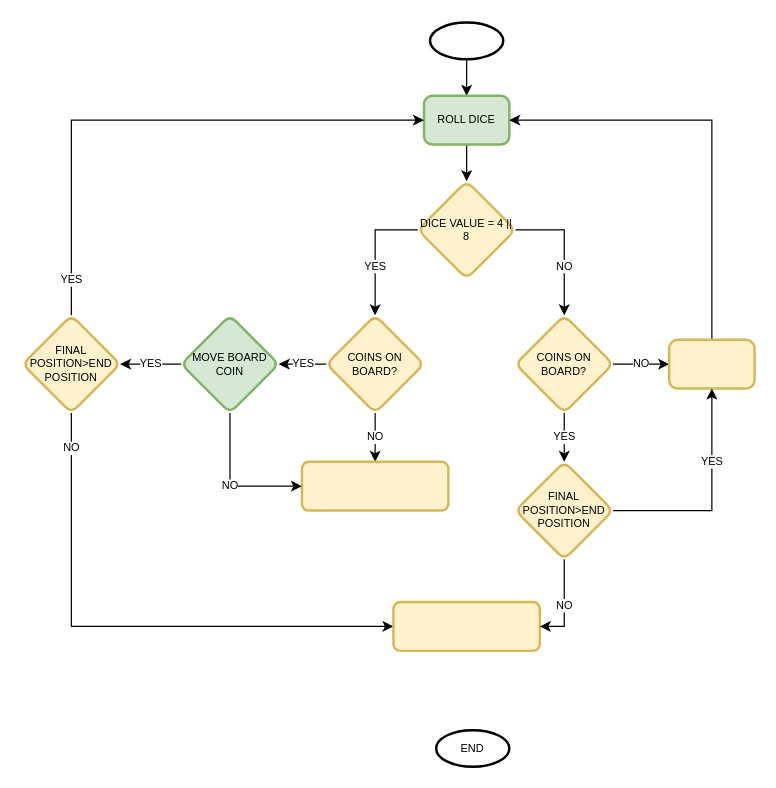
Image size: 776x788. Some labels were removed from this diagram. Here are the shapes that lost their labels. From the top down, the centre of each, then its label:
At (466,40): "START".
At (711,363): "CHANGE TO NEXT PLAYER".
At (374,485): "MOVE COIN TO START POSITION".
At (466,625): "MOVE COIN BY DICE VALUE".
